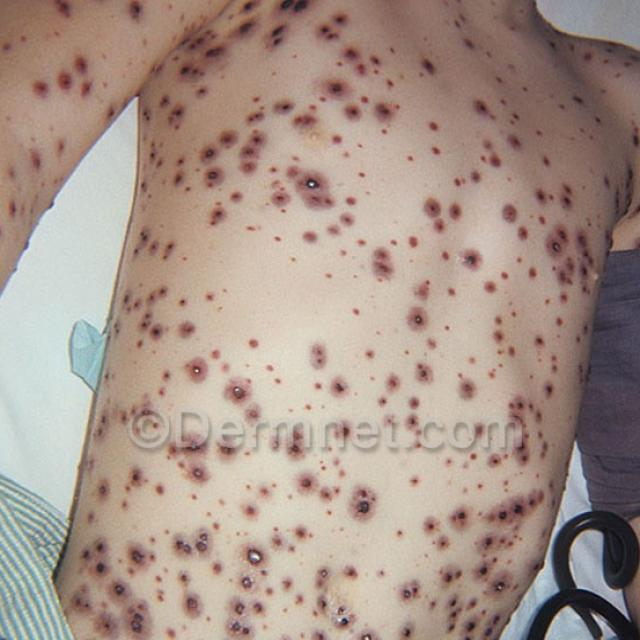Viral Infections: (91, 450, 522, 640), (460, 88, 606, 309), (181, 319, 354, 434), (307, 10, 421, 134), (156, 76, 257, 214), (264, 139, 350, 256), (16, 47, 139, 118), (374, 237, 438, 345)
